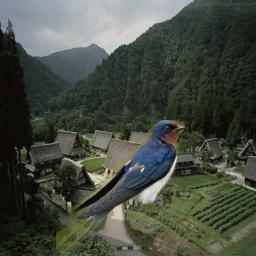Swallow: (56, 120, 185, 255)
